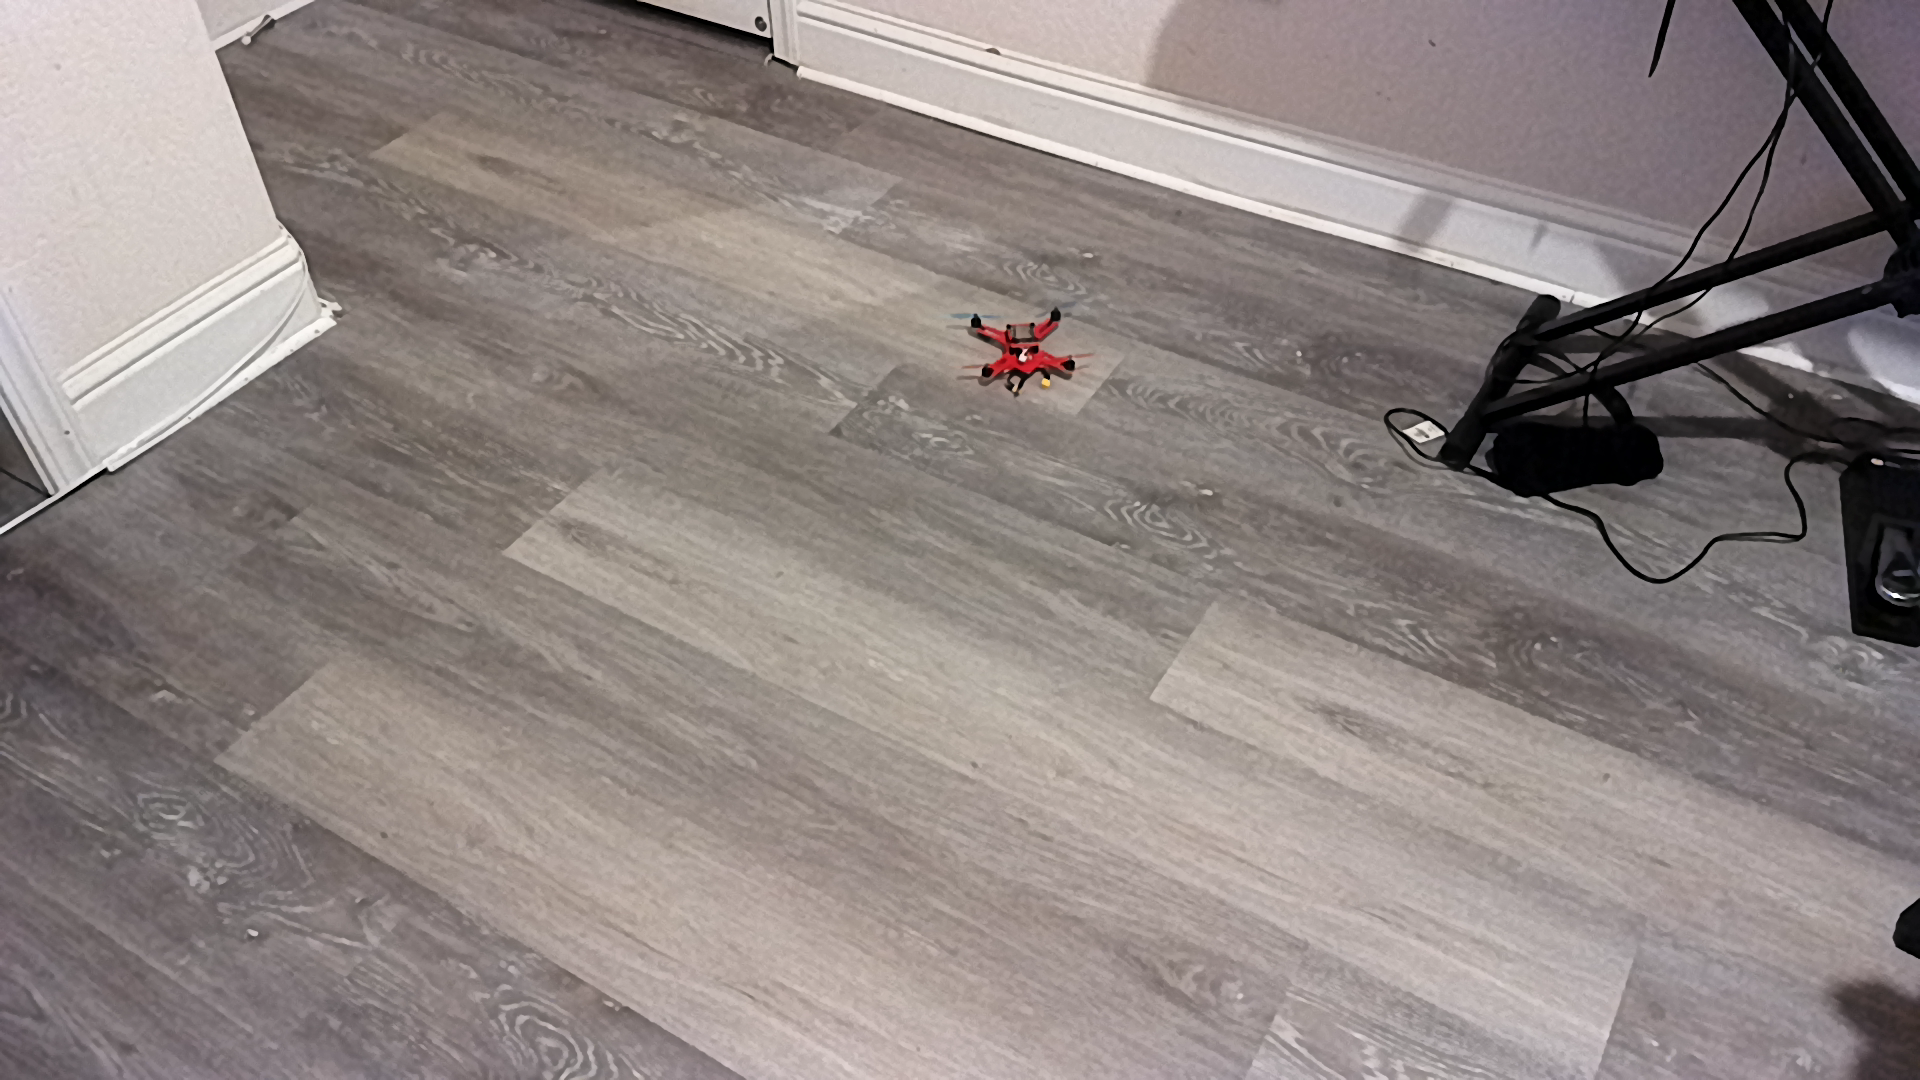drone: (949, 294, 1104, 404)
